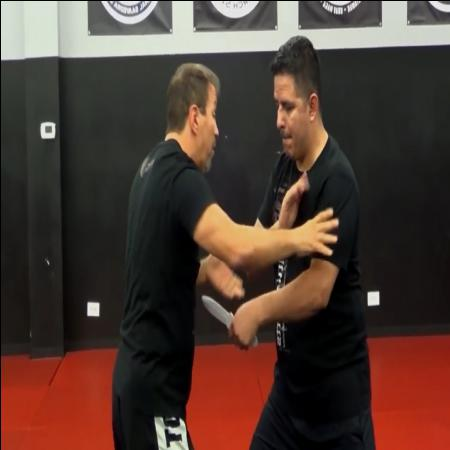long weapon: (199, 288, 259, 350)
